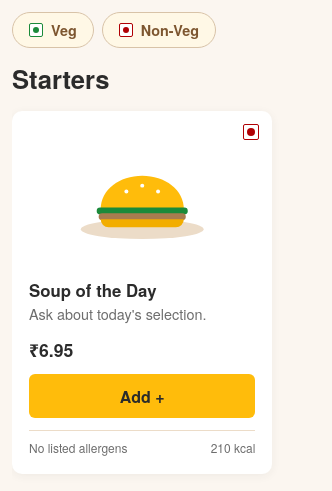
MenuList — Veg / Non-Veg chips (mcdelivery-redesign AC-U4) › says when the chip leaves nothing
The image size is (332, 491).
Step 1. Click the button "Veg" → (53, 30), box x1=12 y1=12 x2=94 y2=48
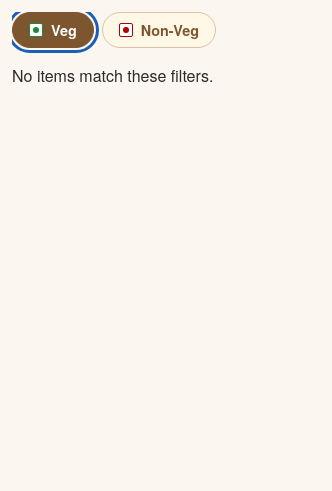
Now the message reads "No items match these filters.", box x1=12 y1=64 x2=213 y2=87
